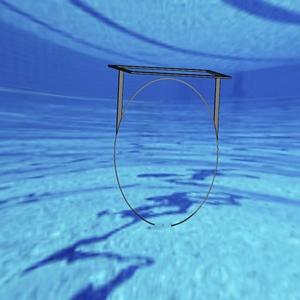circle: (106, 59, 232, 229)
